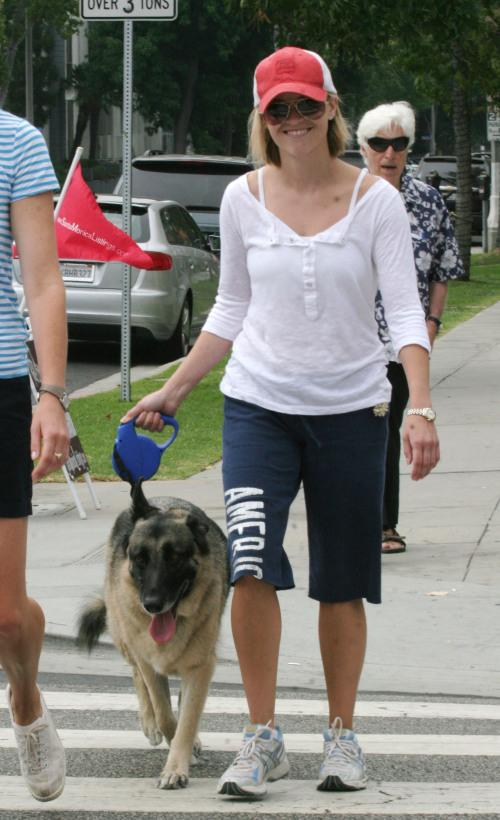person: (123, 47, 441, 793)
